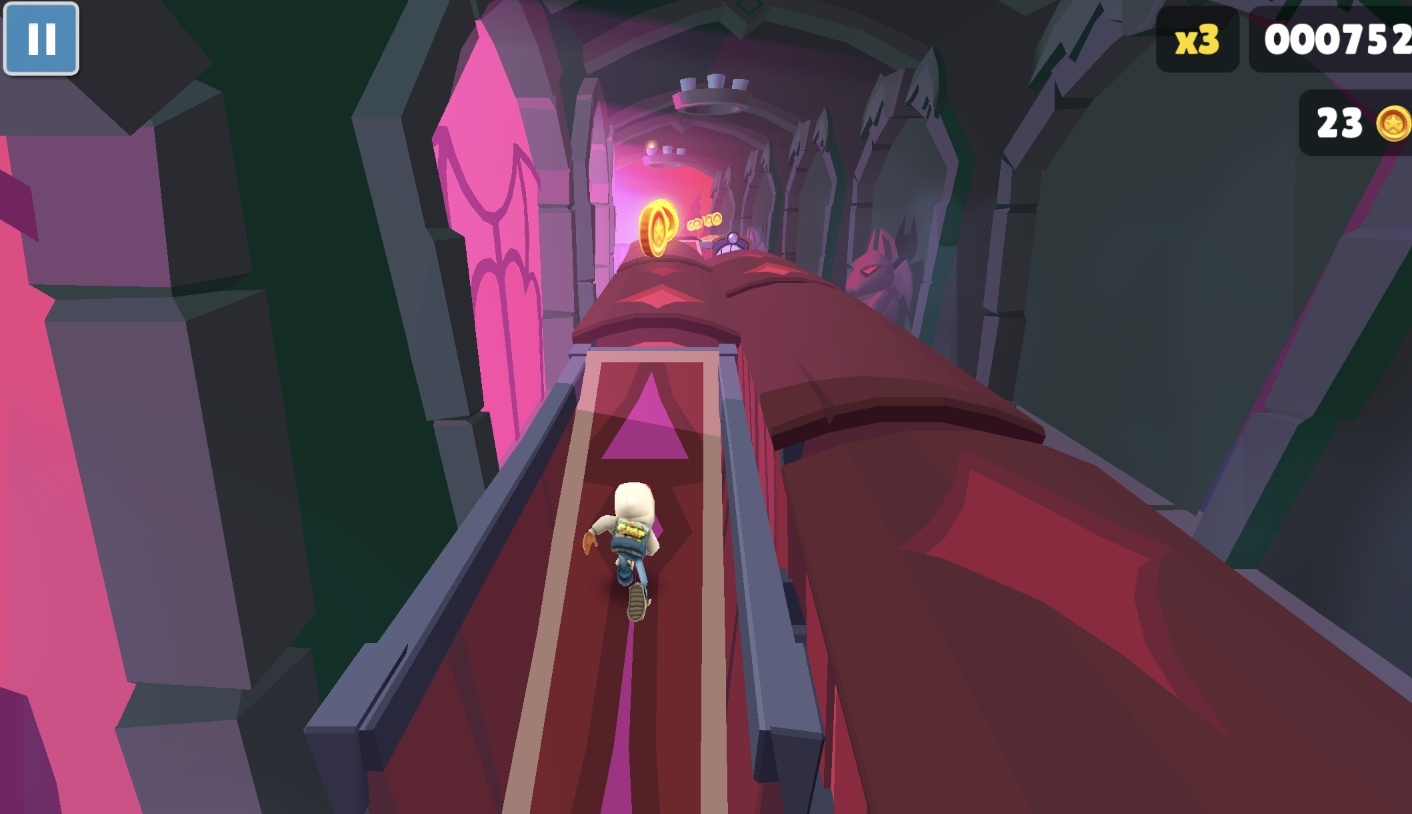train: (701, 247, 1412, 814), (312, 243, 837, 814)
